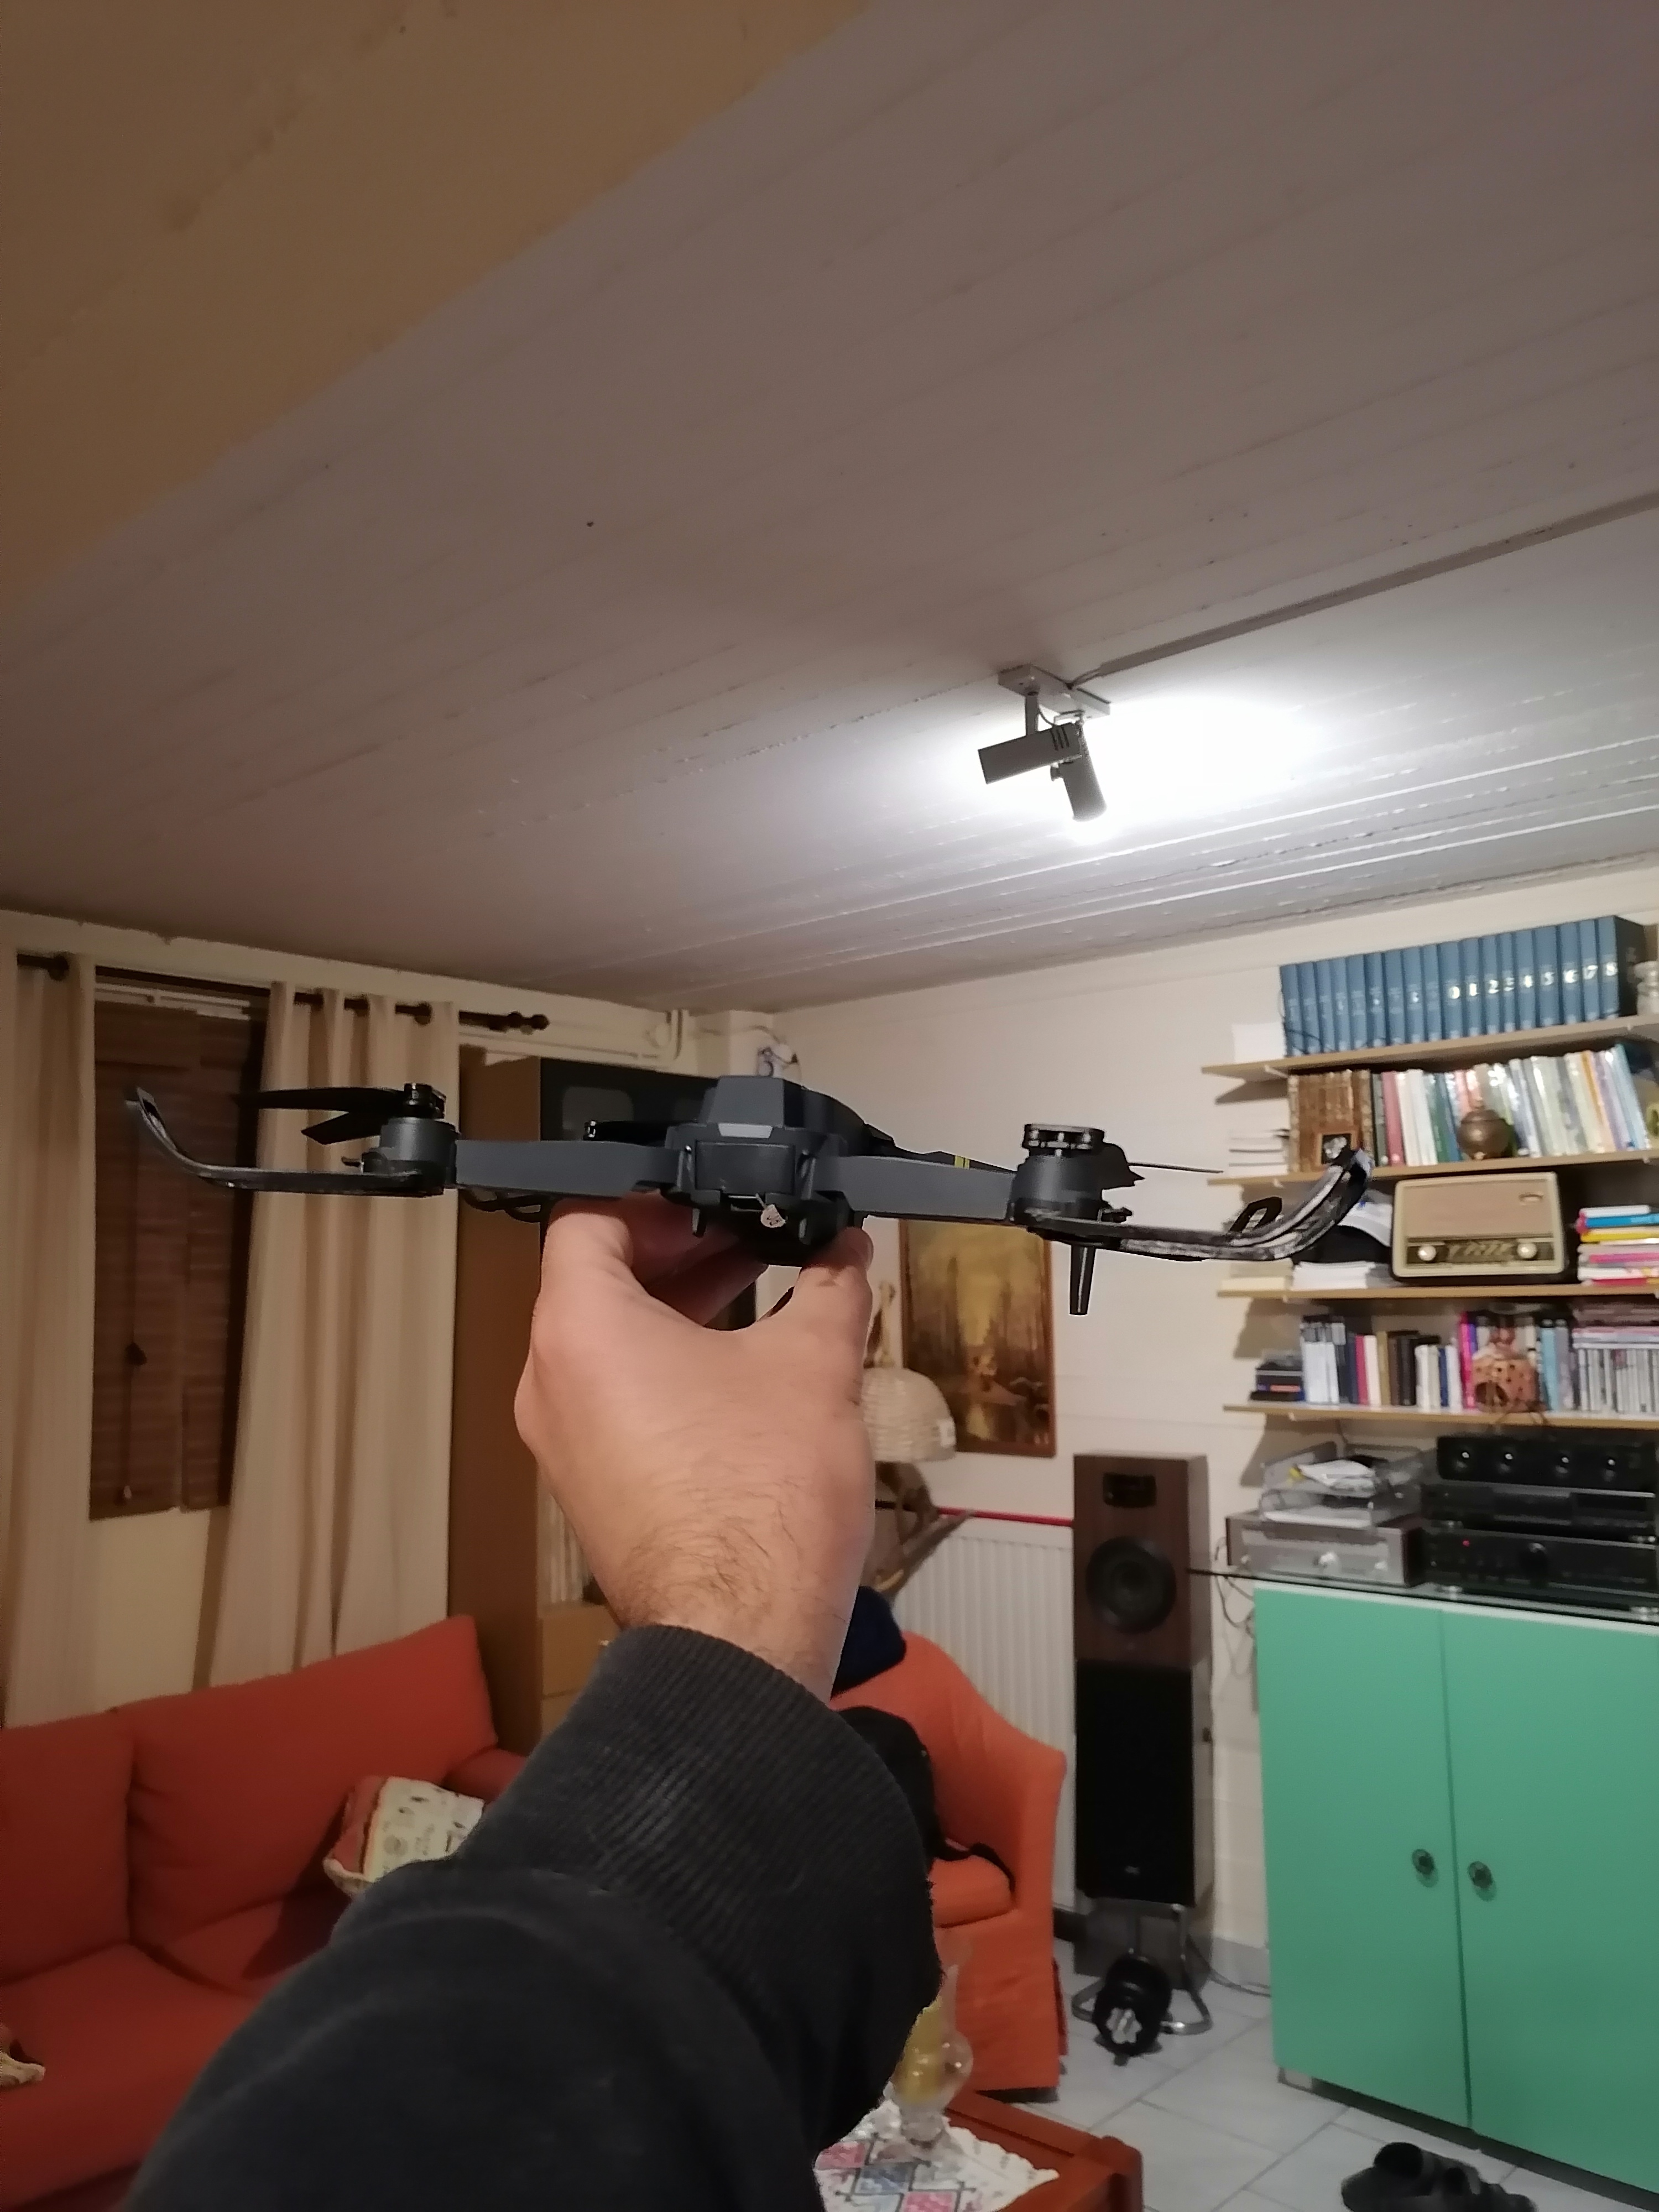drone: (78, 993, 1425, 1327)
